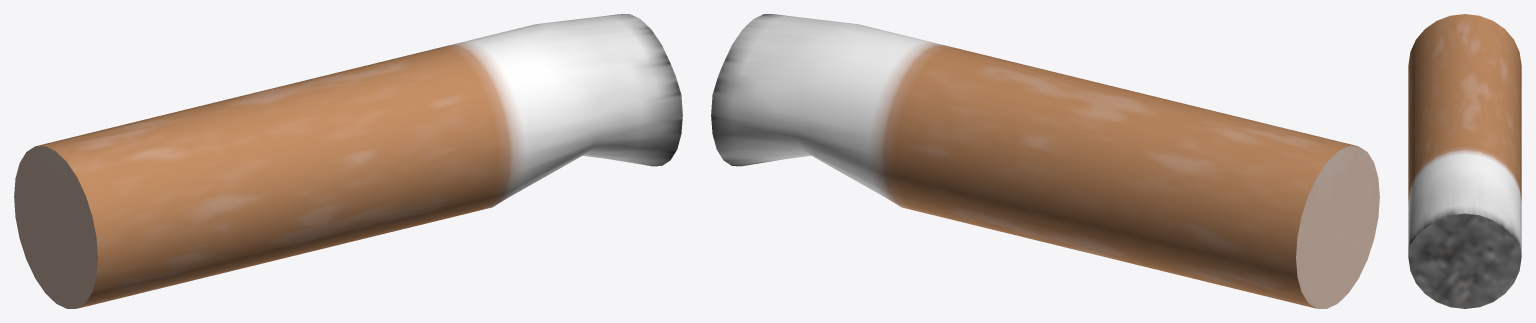
The model's file is litter-cig.glb.
3 renders of one model, left to right at view 1: azimuth 30°, elevation 25°; view 2: azimuth 150°, elevation 25°; view 3: azimuth 270°, elevation 25°, orthographic. The views are drawn at different scales.
Visible parts, largest first — view 1: Cylinder.002; view 2: Cylinder.002; view 3: Cylinder.002.
Part boxes in pixels (x1,y1,x2,y2): Cylinder.002: [14, 14, 682, 308]; Cylinder.002: [711, 14, 1379, 308]; Cylinder.002: [1408, 14, 1521, 308].
Bounding box in the file's own units: 0.0625 × 0.0155 × 0.0155.
1 material, 1 textured.
